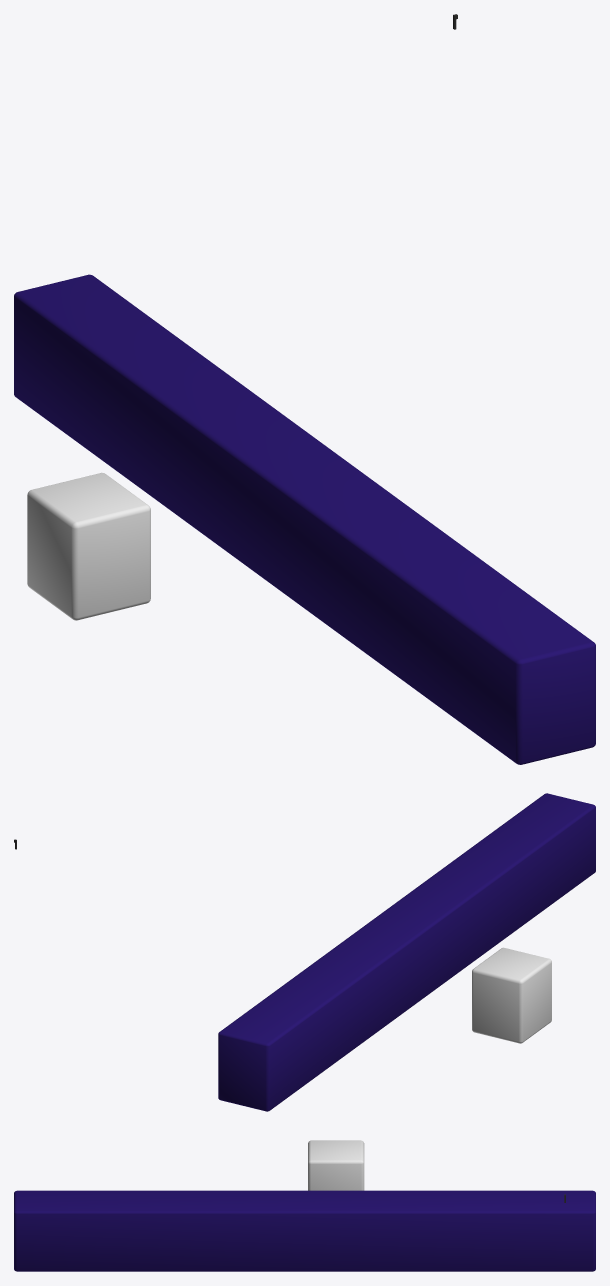
3 renders of one model, top to bottom at view 1: azimuth 30°, elevation 25°; view 2: azimuth 150°, elevation 25°; view 3: azimuth 270°, elevation 25°, orthographic. The views are drawn at different scales.
Visible parts, largest first — view 1: Box002, Box009; view 2: Box002, Box009; view 3: Box002, Box009.
Part boxes in pixels (<box>): Box002: <box>14,274,595,764</box>; Box009: <box>27,472,150,620</box>; Box002: <box>218,793,595,1111</box>; Box009: <box>472,947,551,1043</box>; Box002: <box>14,1190,595,1271</box>; Box009: <box>308,1140,364,1190</box>.
Size of the model in its own units: 39419 by 18607 by 56992.
